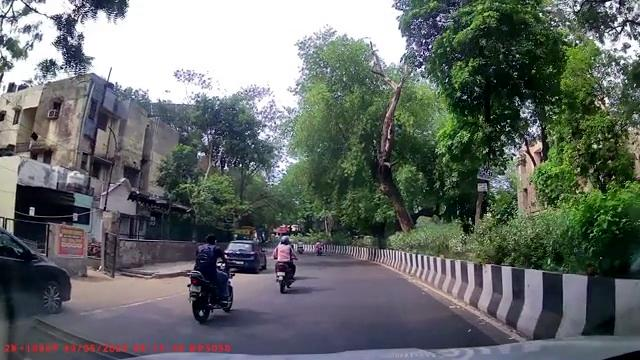motorcycle_with_helmet: (273, 234, 298, 294)
motorcycle_without_helmet: (188, 232, 235, 325)
